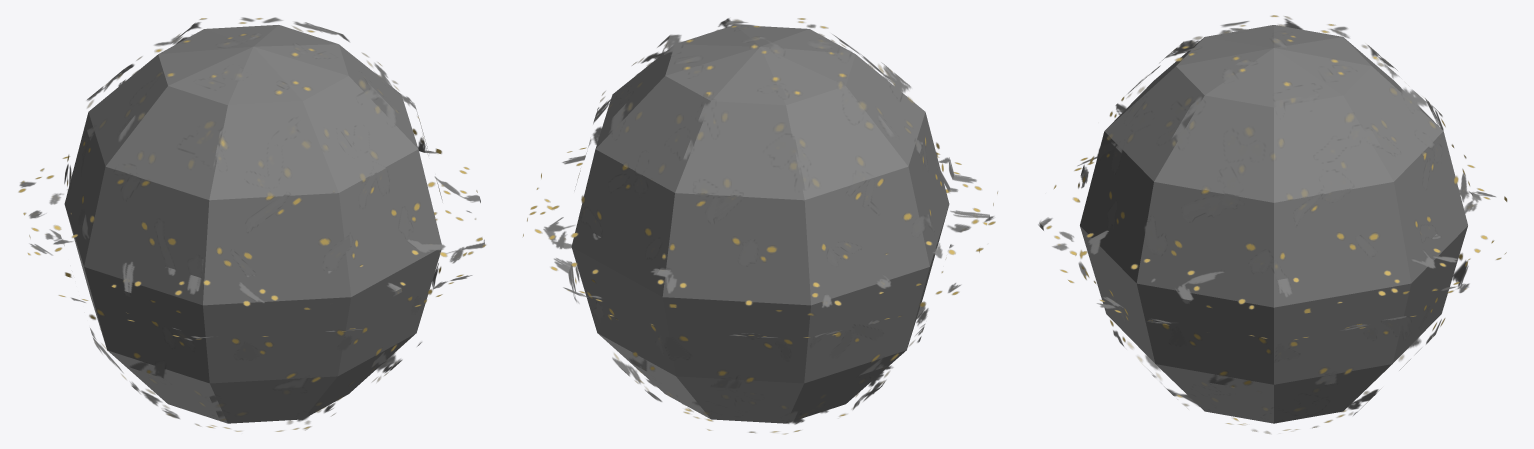
The model's file is VERIVERY_01.glb.
3 views of the same model, side by side, from view 1: azimuth 30°, elevation 25°; view 2: azimuth 150°, elevation 25°; view 3: azimuth 270°, elevation 25° (orthographic).
Bounding box in the file's own units: 0.2539 × 0.2112 × 0.2539.
1 material, 1 textured.
